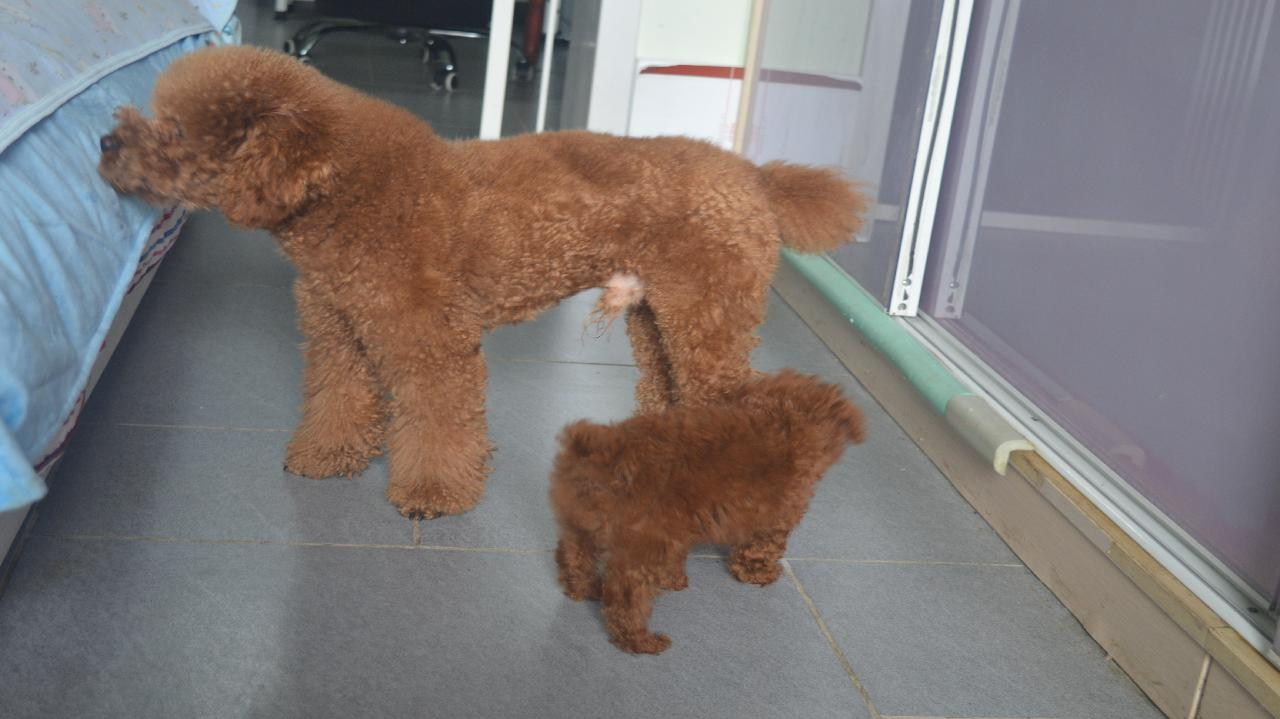coin: (541, 369, 871, 658)
zhuangzhuang: (103, 45, 875, 395)
